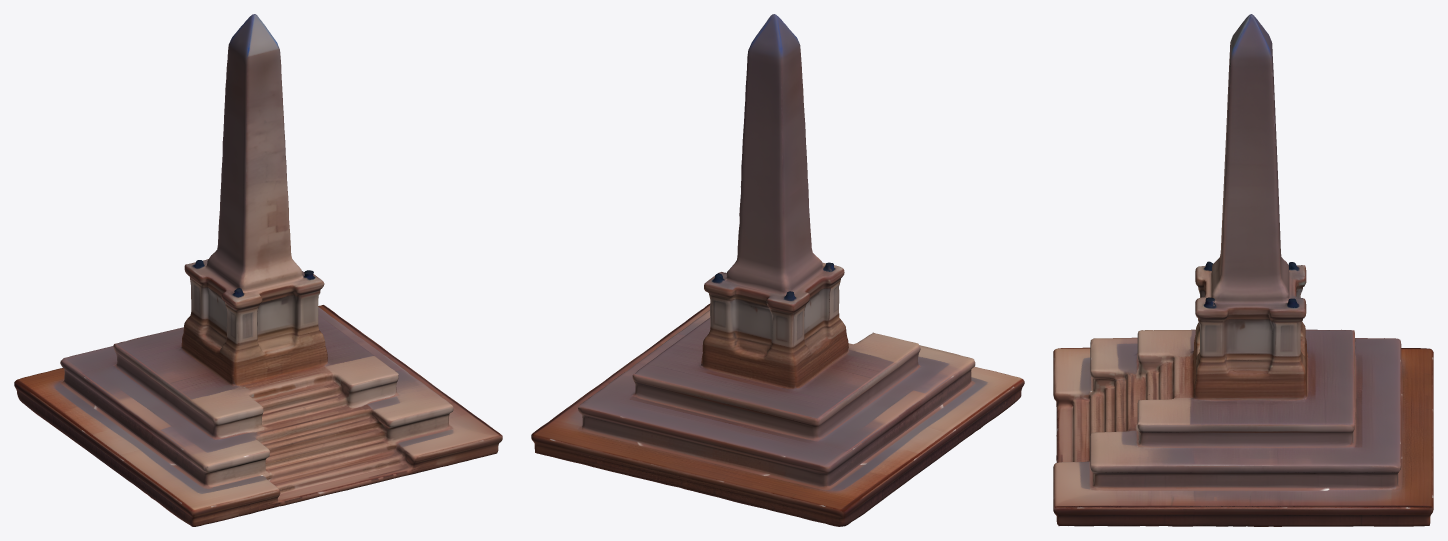
Rendered from Miqui.glb.
3 renders of one model, left to right at view 1: azimuth 30°, elevation 25°; view 2: azimuth 150°, elevation 25°; view 3: azimuth 270°, elevation 25°, orthographic. The views are drawn at different scales.
Parts seen in each view (by area): view 1: model; view 2: model; view 3: model.
Part boxes in pixels (x1,y1,x2,y2): model: [14, 14, 502, 526]; model: [531, 14, 1024, 526]; model: [1053, 14, 1433, 526].
Size of the model in its own units: 1.52 by 1.91 by 1.52.
1 material, 1 textured.
